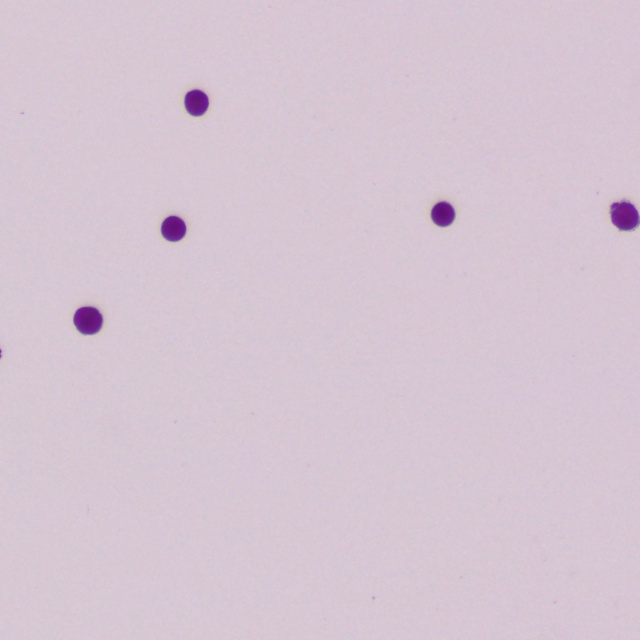viable: (611, 202, 639, 230), (74, 307, 102, 334), (185, 90, 209, 116), (162, 216, 185, 241), (432, 202, 455, 227)
